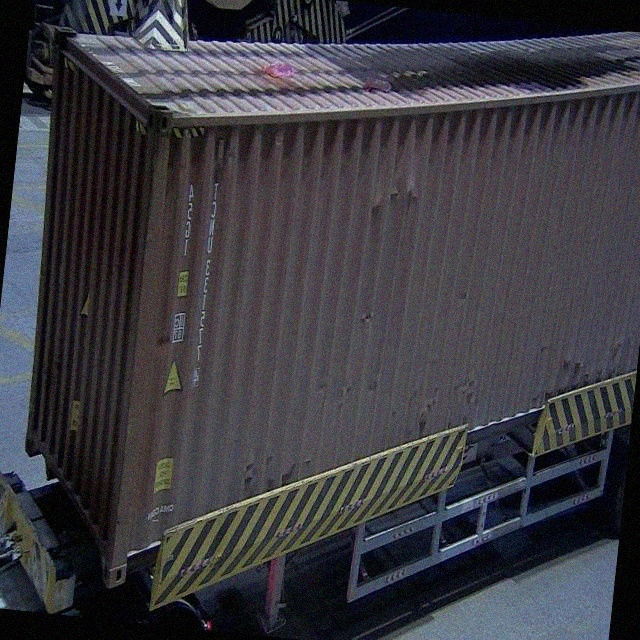Dent: (365, 162, 429, 232)
